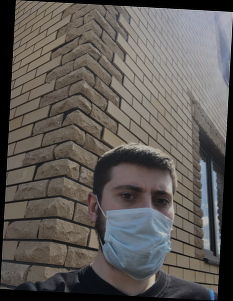with_mask: (97, 176, 173, 282)
